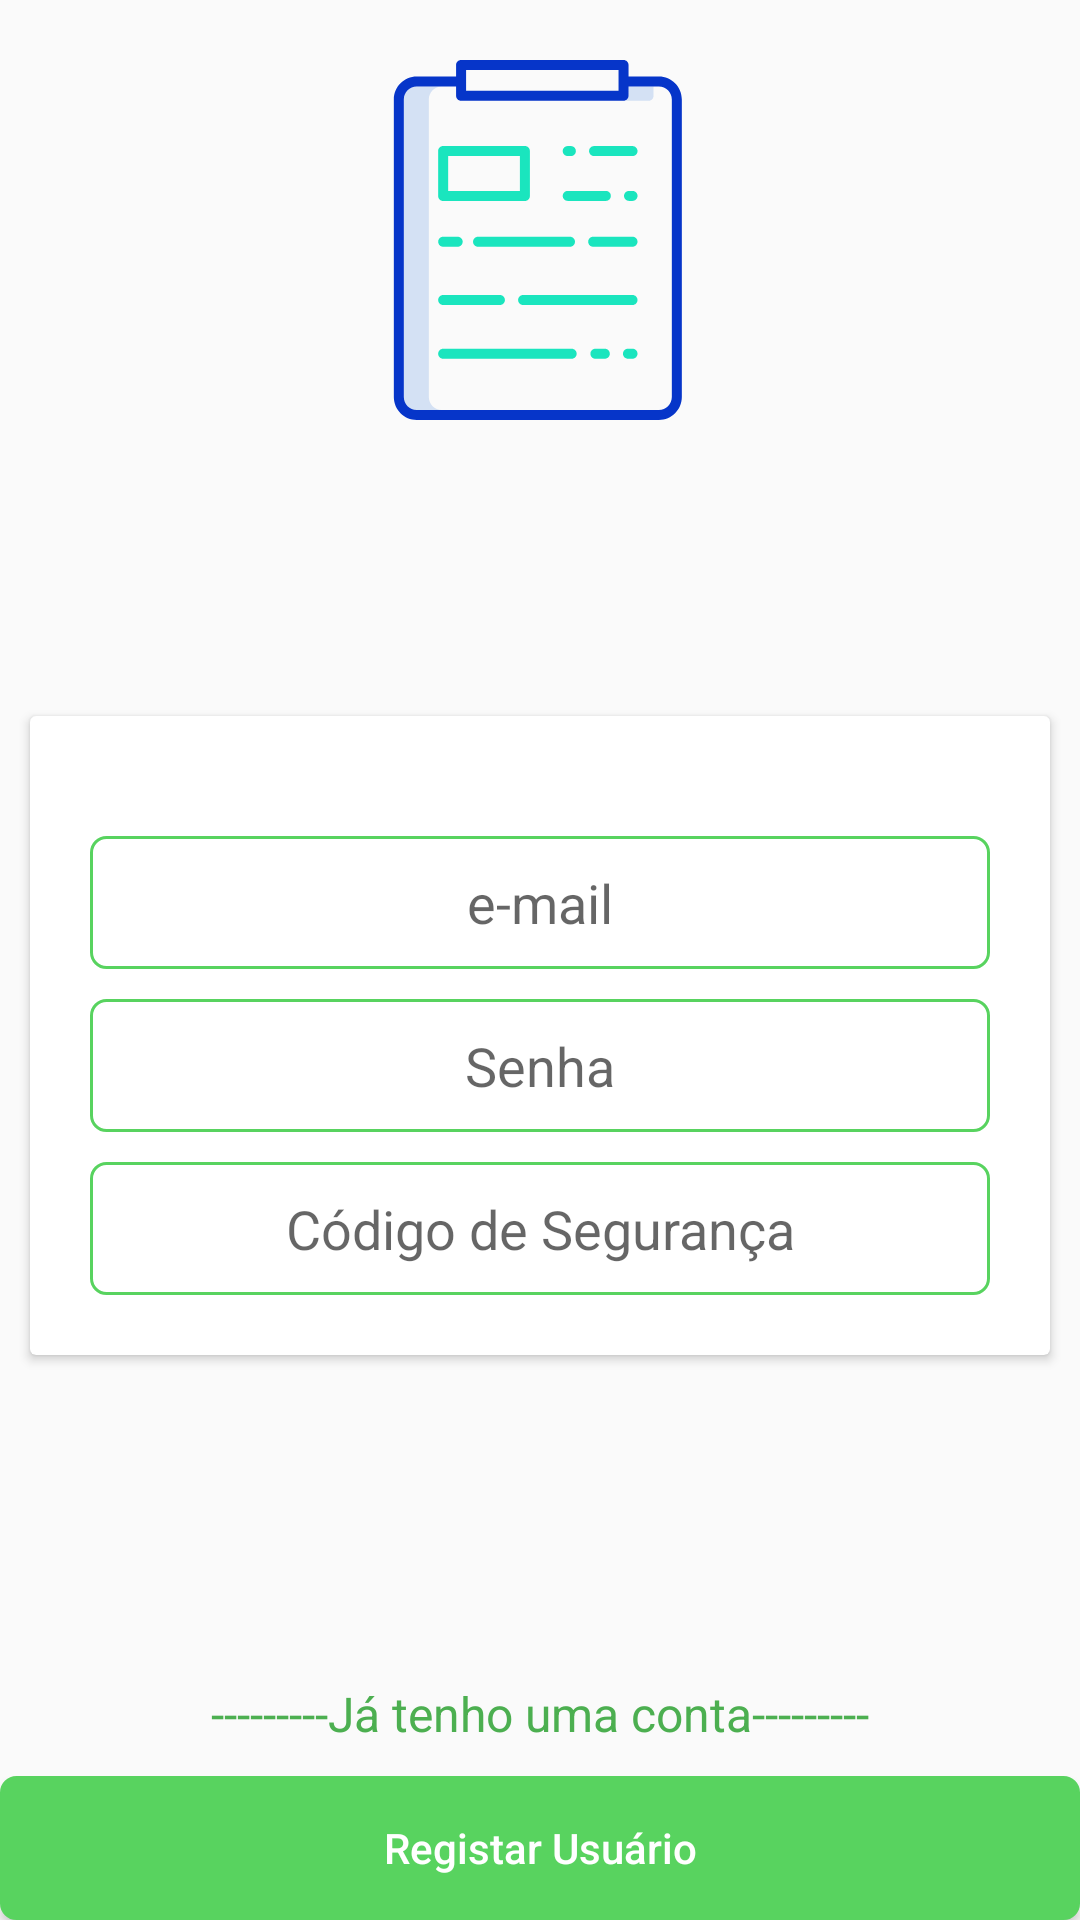

Named icons in this screenshot (1080px x 1920px) and their centers, point (x, y):
clipboard: point (537, 240)
